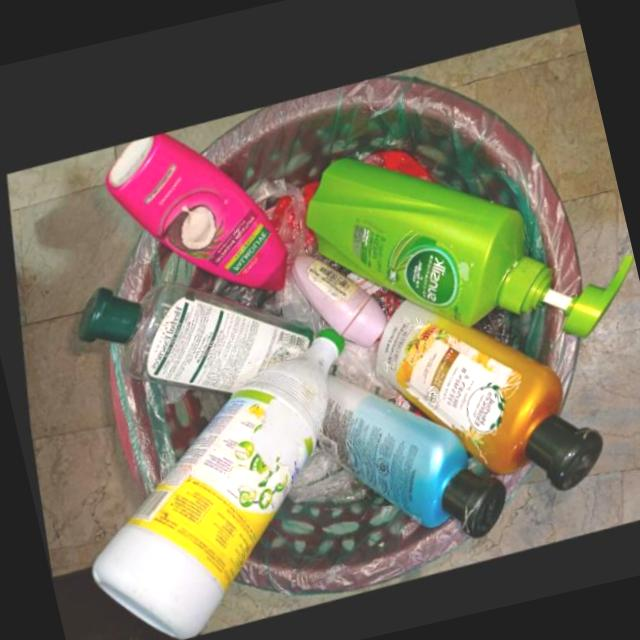chai_nhua: (86, 322, 338, 632), (296, 155, 630, 338), (369, 297, 601, 489), (311, 370, 503, 536), (92, 127, 279, 286), (68, 275, 308, 387), (283, 250, 381, 344)
